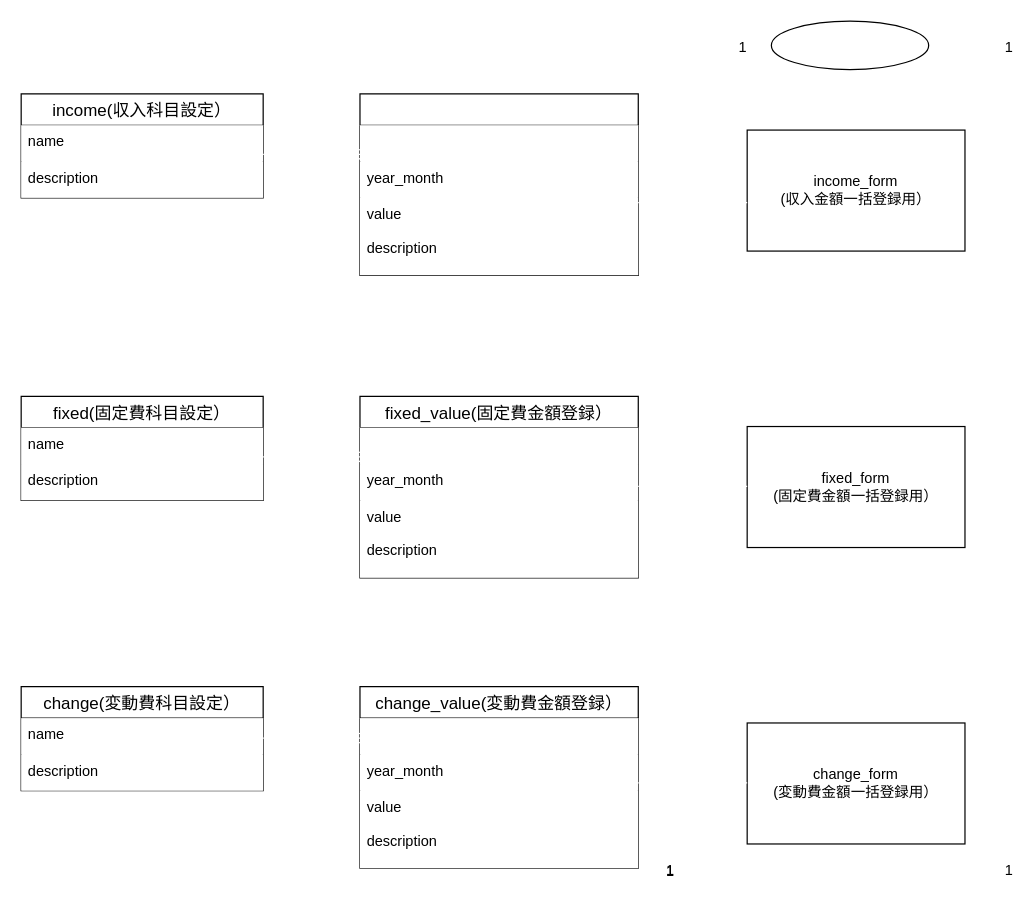
The diagram is 1036 pixels wide and 904 high, and some of its shapes have lost their labels. Here are the shapes that lost their labels. From the top down, the box of each, then its label:
(770, 20, 929, 70): form(一括登録用）
(359, 125, 638, 161): income_id
(359, 93, 638, 275): income_value(収入金額登録）
(359, 427, 638, 463): fixed_id
(359, 718, 638, 754): change_id
